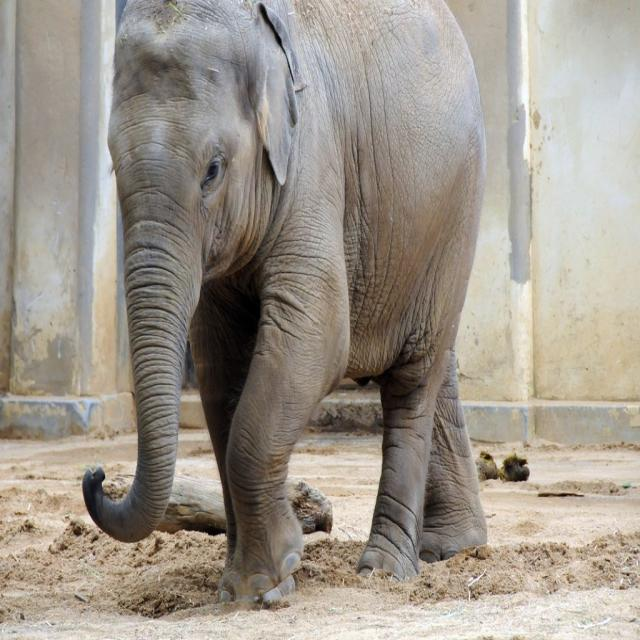Elephant: (79, 0, 494, 607)
